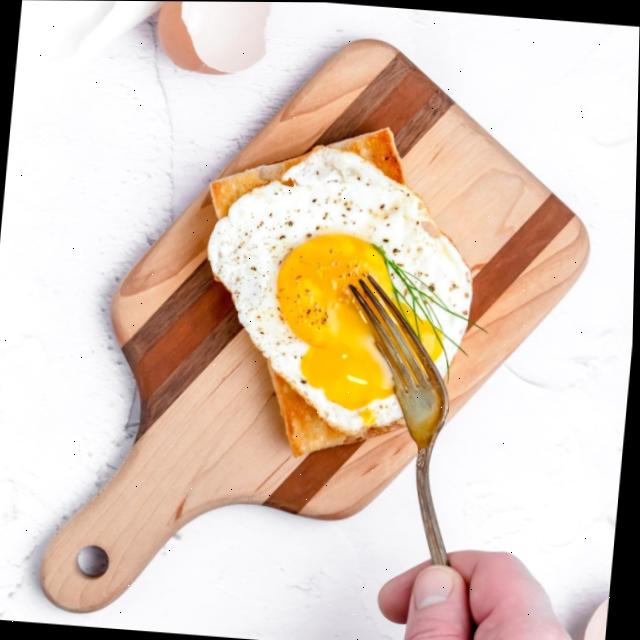Egg: (209, 146, 472, 439)
